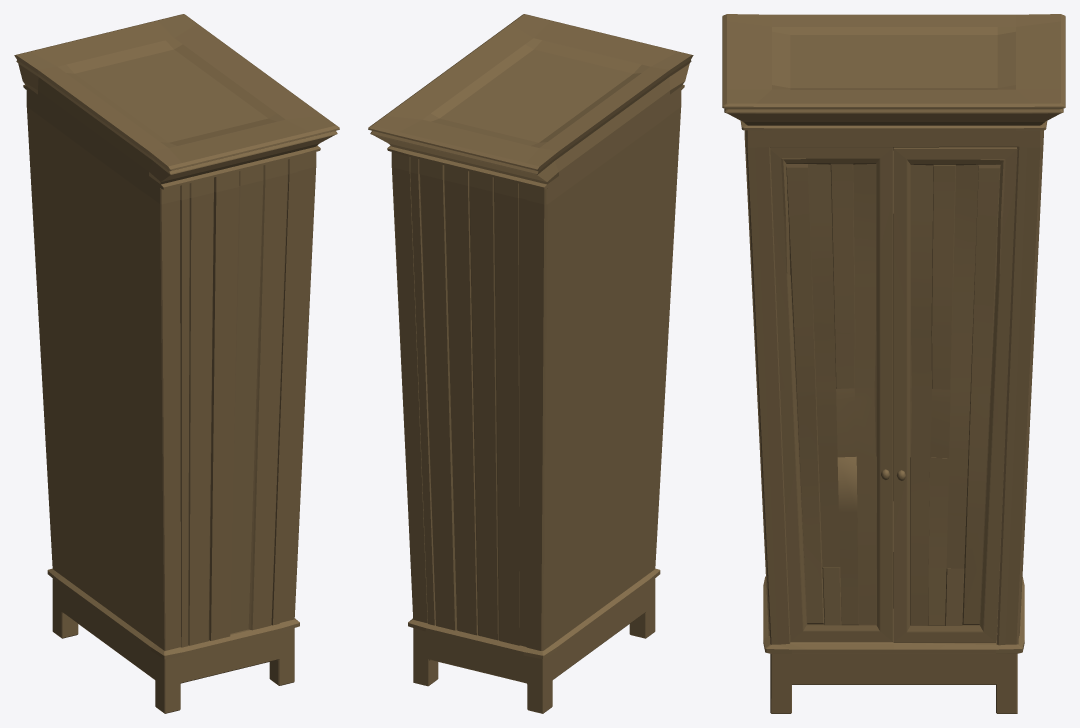
File: Armoire.fbx
The picture shows the model from 3 angles, left to right: view 1: azimuth 30°, elevation 25°; view 2: azimuth 150°, elevation 25°; view 3: azimuth 270°, elevation 25°; orthographic projection. The views are drawn at different scales.
Parts seen in each view (by area): view 1: Cube.003; view 2: Cube.003; view 3: Cube.003, Cube.001, Cube.
Boxes of the visible parts, box(x1,y1,x2,y2) form: Cube.003: box(14, 14, 339, 713); Cube.003: box(368, 14, 693, 713); Cube.003: box(722, 14, 1065, 713); Cube.001: box(893, 147, 1017, 642); Cube: box(770, 147, 892, 641).
Bounding box in the file's own units: 73.66 × 234 × 117.
